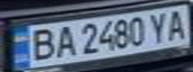0: (127, 15, 151, 47)
2: (75, 20, 100, 55)
4: (97, 17, 118, 52)
8: (112, 17, 133, 50)
A: (163, 7, 193, 42), (51, 24, 78, 58)
B: (24, 26, 57, 62)
Y: (145, 10, 172, 44)
